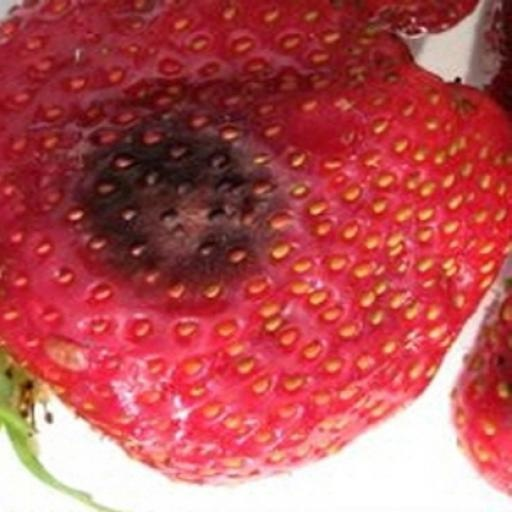Anthracnose Fruit Rot: (214, 194, 452, 423)
